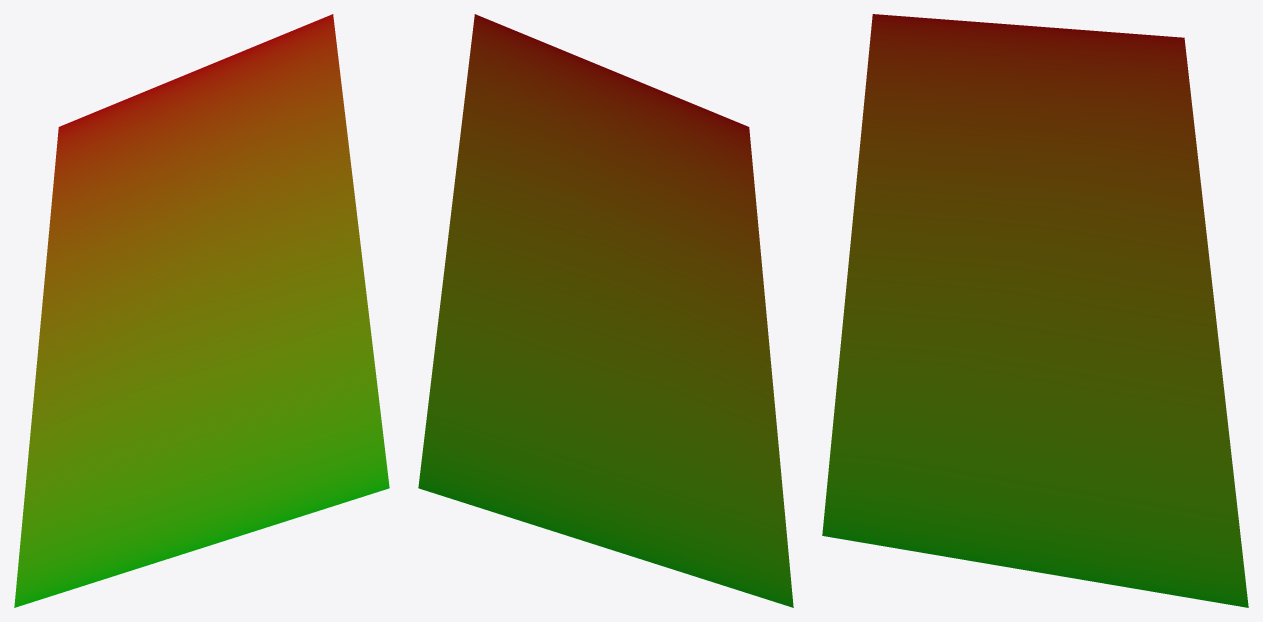
Rendered from Lemongrass_LOD3_Var2_sktne.fbx.
3 views of the same model, side by side, from view 1: azimuth 30°, elevation 25°; view 2: azimuth 150°, elevation 25°; view 3: azimuth 330°, elevation 25° (orthographic). The views are drawn at different scales.
Visible parts, largest first — view 1: _0600_Var2_LOD3; view 2: _0600_Var2_LOD3; view 3: _0600_Var2_LOD3.
Boxes of the visible parts, x1=… form: _0600_Var2_LOD3: x1=14, y1=14, x2=389, y2=607; _0600_Var2_LOD3: x1=418, y1=14, x2=793, y2=607; _0600_Var2_LOD3: x1=822, y1=14, x2=1248, y2=607.
Size of the model in its own units: 36.49 by 47.96 by 2.98e-06.
